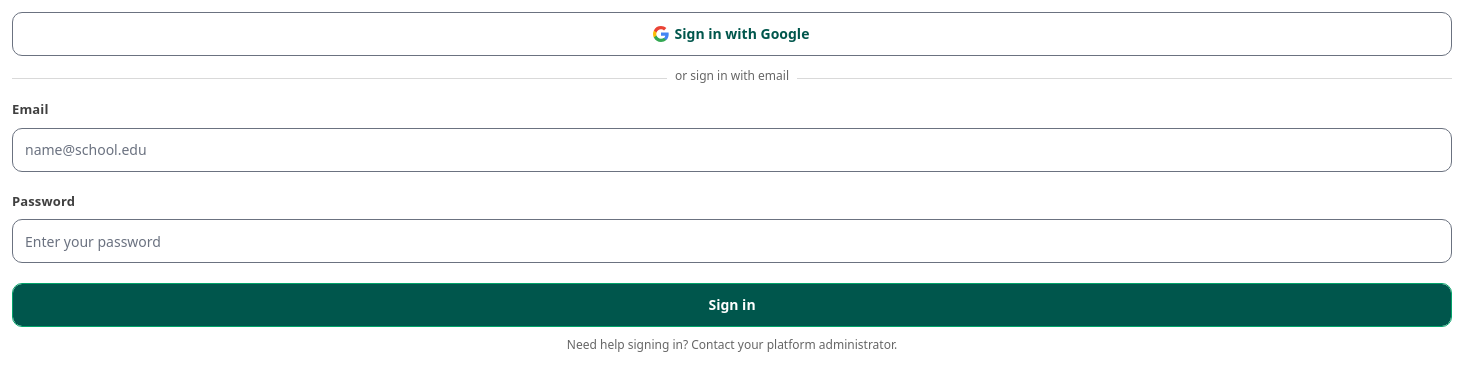
LoginForm › shows Google redirect progress and disables email submit while redirecting
Click the button "Sign in with Google" at x=732, y=34, box [12,12,1452,56]
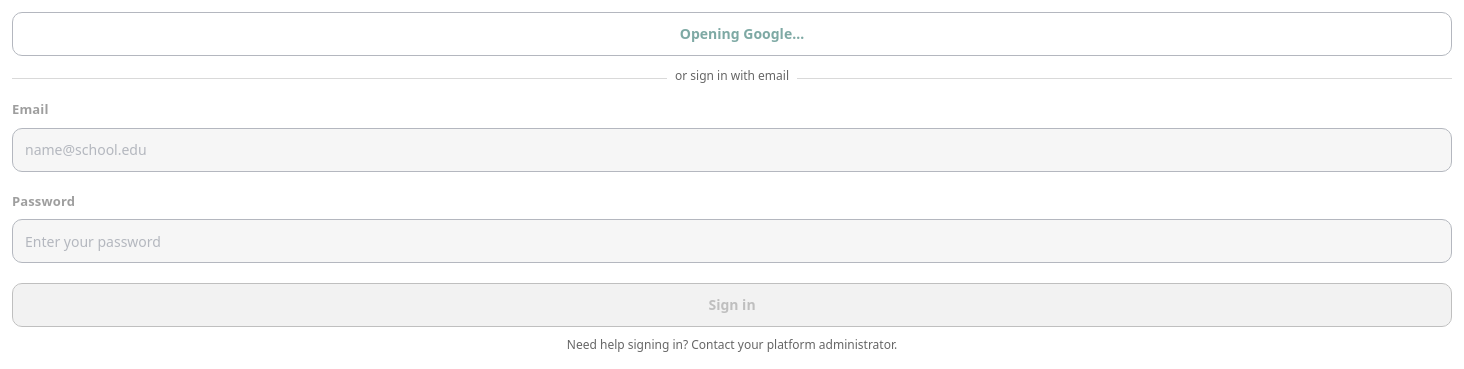
Result: the button "Opening Google…" is disabled at [12,12,1452,56]
Result: the button "Sign in" is disabled at [12,283,1452,327]
Result: the field labelled "Email" is disabled at [12,128,1452,172]
